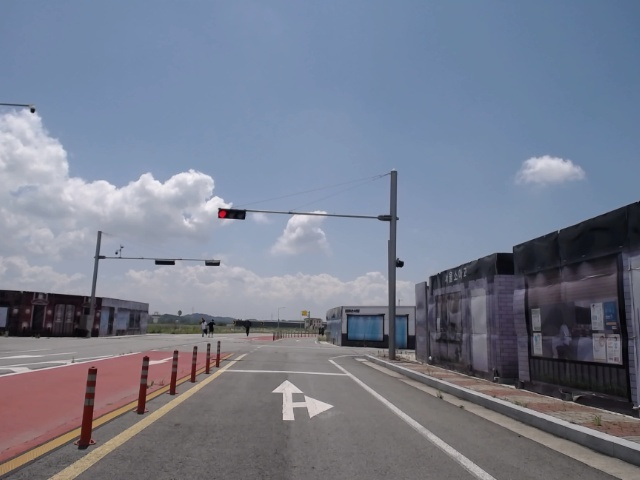red_3: (216, 207, 249, 220)
